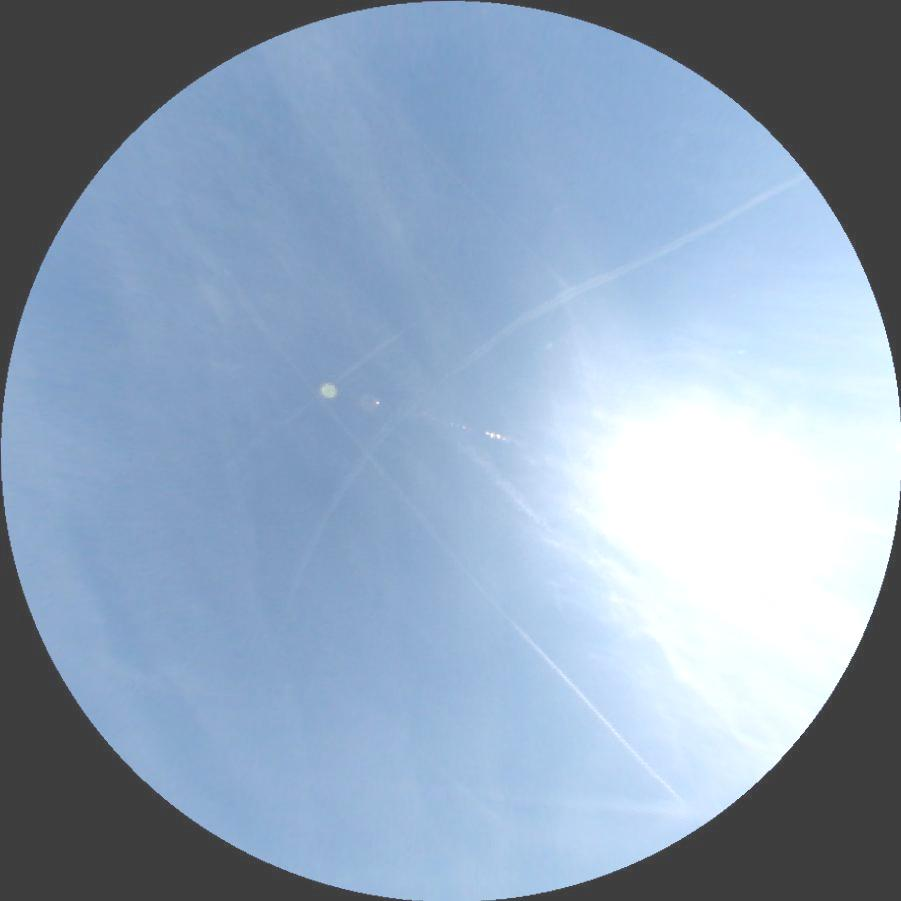contrail old: (235, 113, 808, 607), (263, 320, 412, 435)
contrail veryold: (185, 113, 545, 556)
contrail young: (194, 240, 684, 815), (408, 130, 571, 290), (424, 748, 497, 820)
sun: (631, 421, 786, 569)
unknow: (496, 788, 708, 822)
